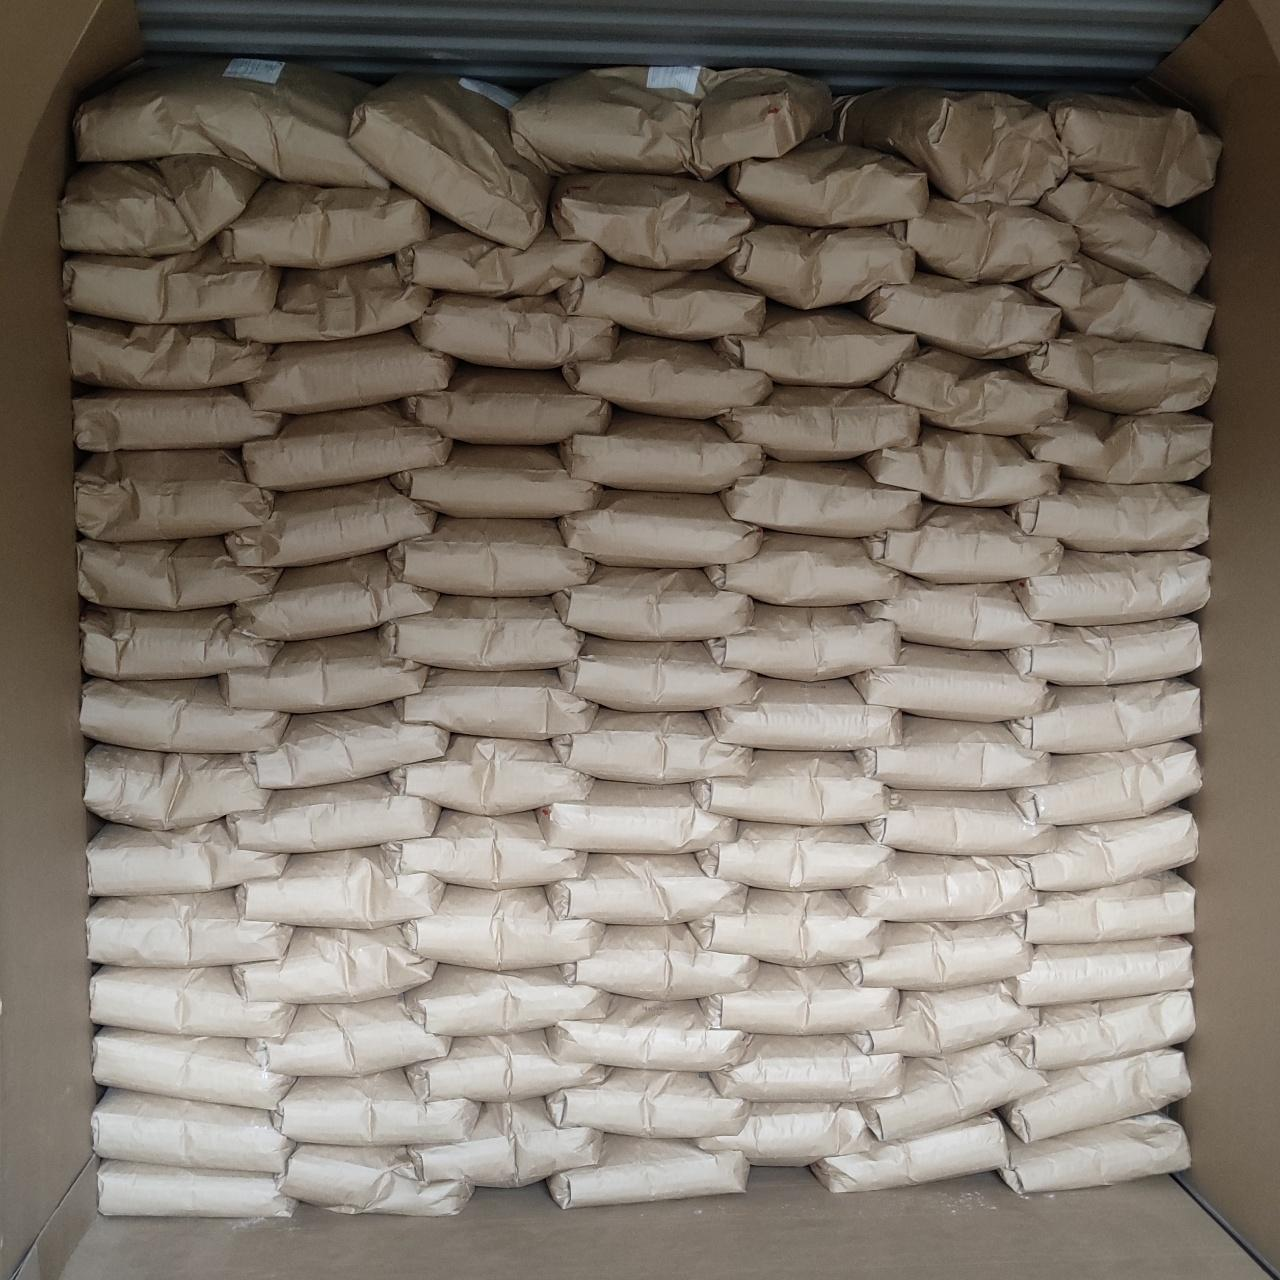sack: (74, 58, 390, 189), (512, 66, 830, 174), (350, 76, 552, 246), (832, 86, 1064, 202), (1032, 92, 1218, 206), (60, 152, 262, 254), (1036, 174, 1206, 288), (552, 174, 752, 268), (1022, 254, 1214, 348), (862, 1042, 1044, 1140), (228, 480, 434, 566), (76, 450, 270, 540), (218, 180, 428, 262), (860, 272, 1060, 358), (244, 404, 448, 488), (1002, 1050, 1188, 1142), (562, 332, 770, 414), (246, 330, 454, 412), (236, 554, 436, 638), (64, 240, 278, 318), (728, 138, 926, 222), (874, 348, 1066, 434), (222, 630, 428, 710), (250, 704, 446, 788), (94, 1090, 294, 1172), (410, 1100, 600, 1186), (1010, 332, 1214, 412), (560, 412, 762, 492), (404, 364, 610, 442), (230, 260, 430, 340), (94, 1028, 294, 1108), (238, 848, 442, 926), (714, 304, 916, 382), (722, 224, 914, 306), (396, 218, 602, 294), (390, 736, 590, 814), (888, 196, 1078, 278), (228, 776, 438, 850), (88, 890, 292, 966), (860, 424, 1058, 502), (86, 744, 268, 828), (404, 888, 600, 966), (250, 996, 446, 1074), (234, 926, 434, 1002), (560, 264, 764, 338), (560, 490, 758, 566), (384, 810, 582, 886), (866, 506, 1062, 582), (1012, 742, 1198, 822), (392, 444, 598, 516), (390, 518, 590, 592), (274, 1070, 478, 1142), (82, 678, 286, 750), (550, 996, 748, 1070), (1018, 406, 1210, 482), (412, 294, 614, 366), (90, 820, 286, 894), (718, 386, 918, 458), (852, 644, 1046, 718), (406, 964, 610, 1034), (722, 462, 920, 534), (382, 596, 580, 668), (82, 606, 280, 678), (70, 316, 268, 388), (408, 1030, 606, 1102), (706, 604, 898, 678), (564, 924, 756, 998), (814, 1116, 1006, 1190), (92, 966, 294, 1036), (1002, 1114, 1188, 1190), (1008, 992, 1194, 1068), (560, 638, 756, 710), (554, 710, 750, 782), (690, 890, 880, 964), (540, 780, 734, 852), (1018, 808, 1196, 886), (550, 1136, 748, 1206), (694, 750, 886, 822), (1016, 550, 1208, 622), (708, 532, 900, 604), (1010, 480, 1206, 550), (554, 568, 750, 638), (856, 716, 1046, 788), (78, 538, 278, 606), (396, 670, 596, 738), (708, 678, 900, 748), (840, 918, 1030, 988), (280, 1144, 470, 1214), (548, 854, 742, 922), (1010, 680, 1198, 750), (856, 982, 1038, 1054), (548, 1068, 744, 1134), (700, 964, 896, 1030), (862, 578, 1052, 646), (76, 388, 282, 450), (698, 822, 890, 888), (1008, 618, 1198, 684), (712, 1034, 902, 1100), (1010, 874, 1192, 942), (848, 852, 1034, 918), (1008, 938, 1190, 1004), (868, 790, 1052, 852), (696, 1104, 872, 1164), (100, 1160, 294, 1214)
